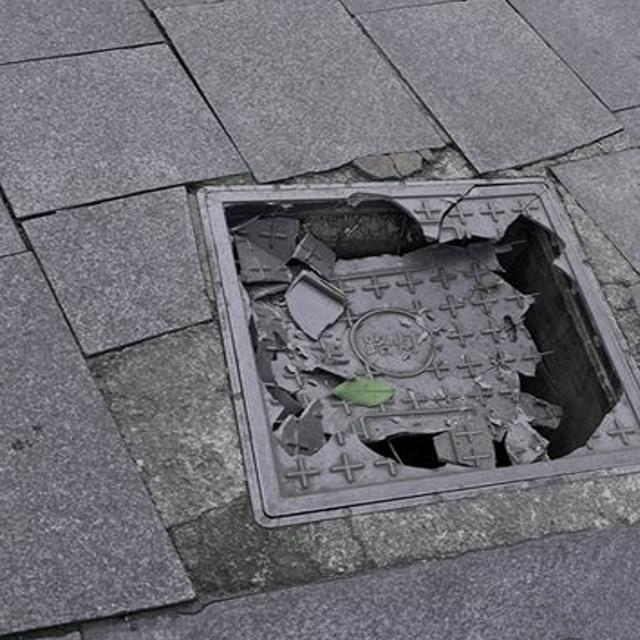broke: (110, 148, 640, 512)
